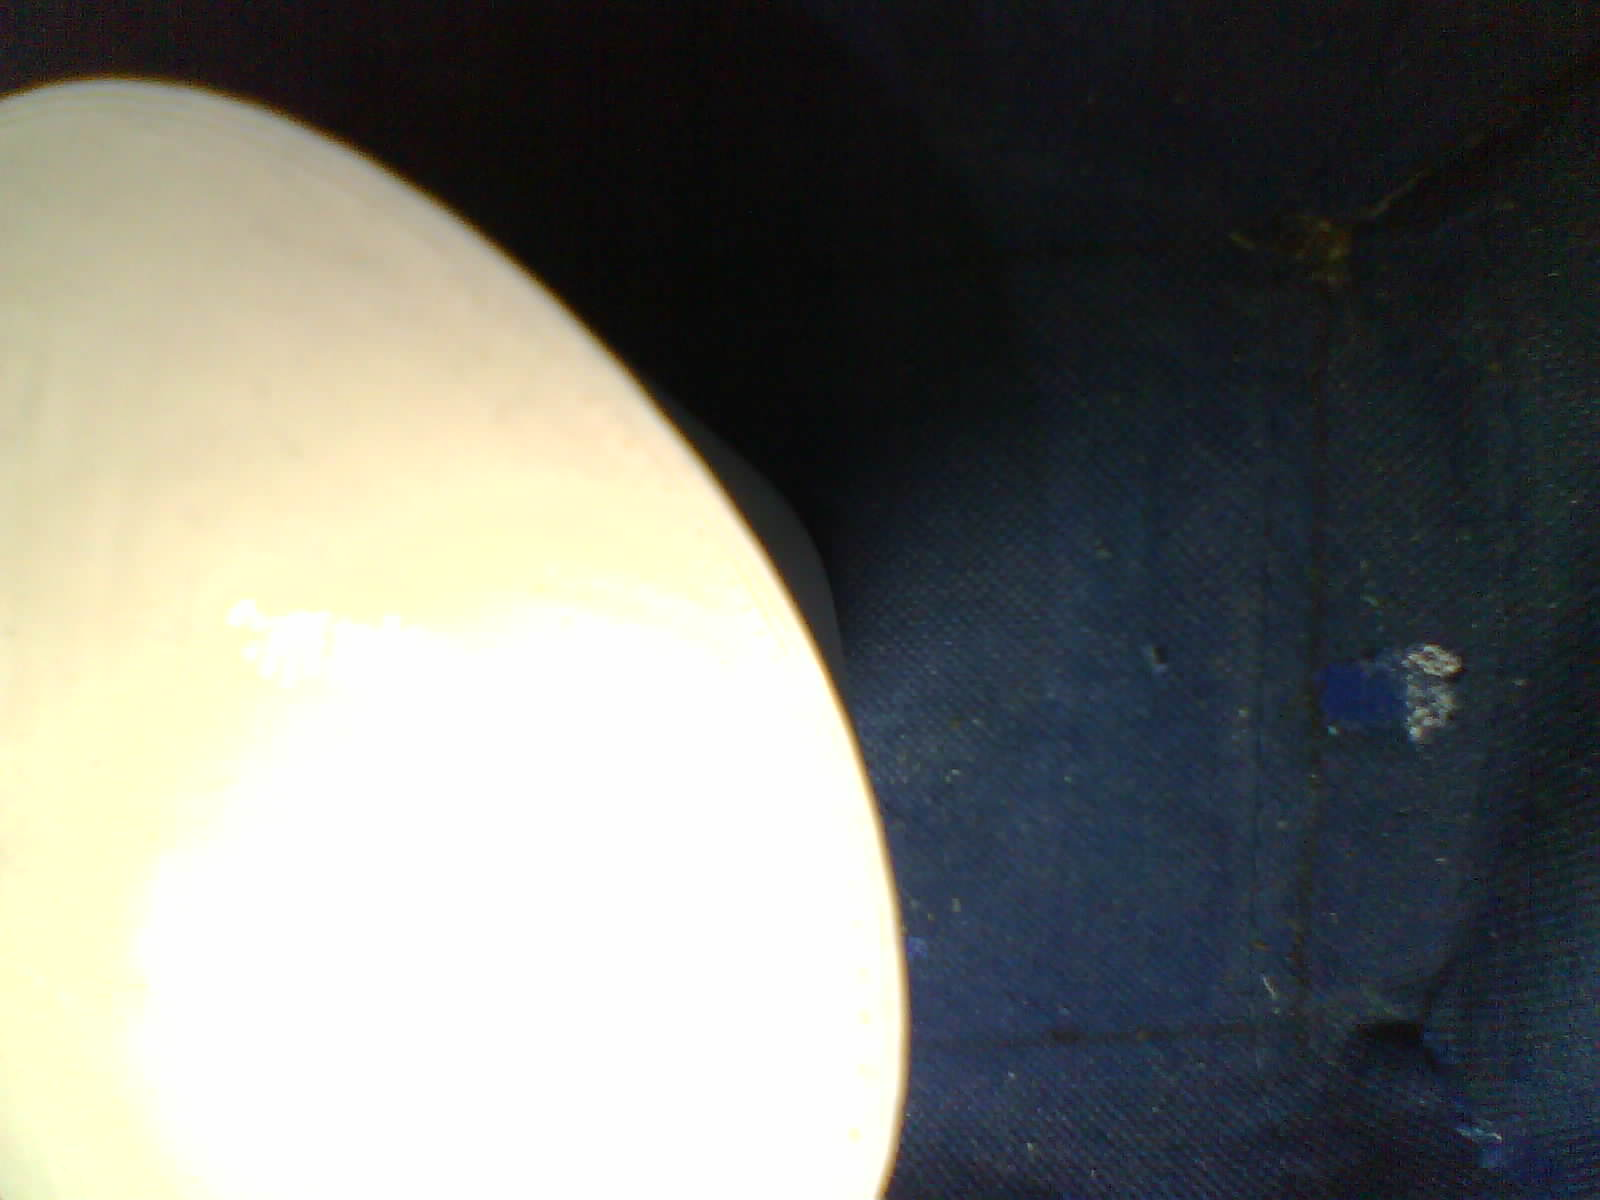cylinder-hard: (0, 62, 941, 1200)
